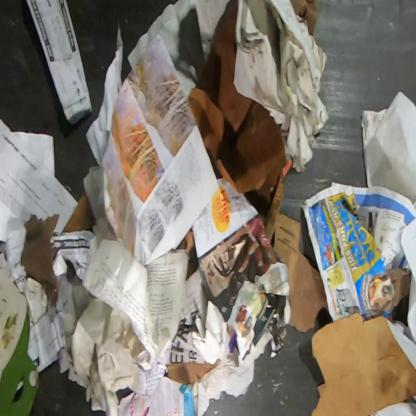cardboard: (190, 0, 288, 203), (311, 311, 415, 415), (264, 173, 328, 332), (0, 266, 40, 415), (166, 358, 221, 385), (62, 191, 96, 233), (290, 0, 320, 36)
